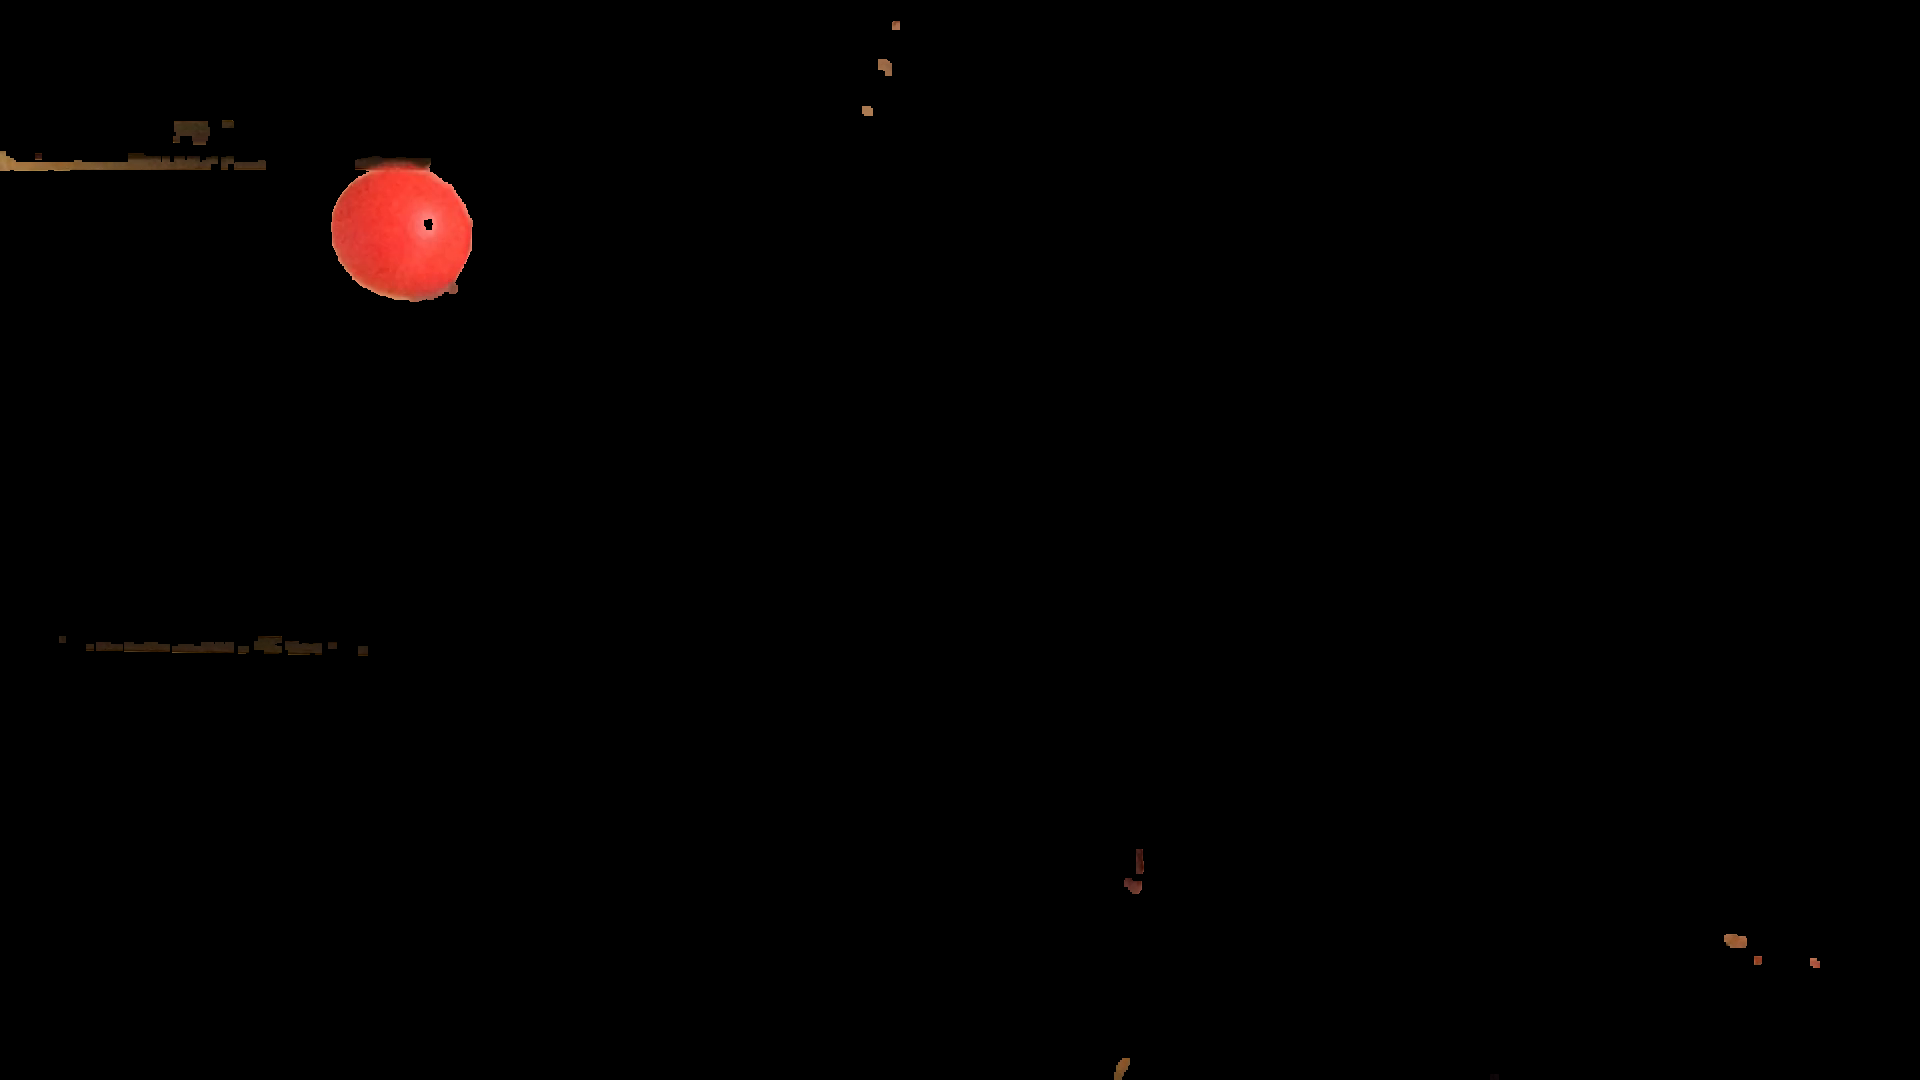Ball: (330, 166, 473, 297)
